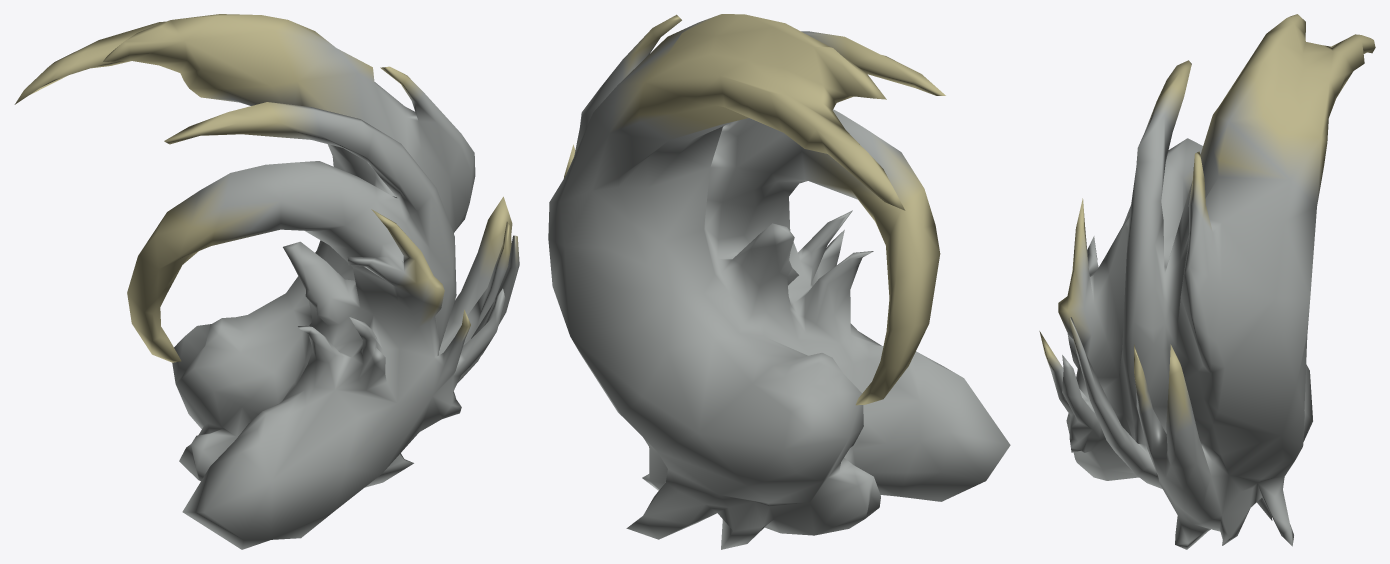
The picture shows the model from 3 angles, left to right: view 1: azimuth 30°, elevation 25°; view 2: azimuth 150°, elevation 25°; view 3: azimuth 270°, elevation 25°; orthographic projection. The views are drawn at different scales.
Parts seen in each view (by area): view 1: G:\FFXIV-MapTools\exports\l1f1\bg\ffxiv\lak_l1\fld\l1f1\bgpa; view 2: G:\FFXIV-MapTools\exports\l1f1\bg\ffxiv\lak_l1\fld\l1f1\bgpa; view 3: G:\FFXIV-MapTools\exports\l1f1\bg\ffxiv\lak_l1\fld\l1f1\bgpa.
Part boxes in pixels (bbox=[...]): G:\FFXIV-MapTools\exports\l1f1\bg\ffxiv\lak_l1\fld\l1f1\bgpa: bbox=[14, 14, 519, 549]; G:\FFXIV-MapTools\exports\l1f1\bg\ffxiv\lak_l1\fld\l1f1\bgpa: bbox=[548, 14, 1010, 549]; G:\FFXIV-MapTools\exports\l1f1\bg\ffxiv\lak_l1\fld\l1f1\bgpa: bbox=[1039, 14, 1375, 549].
Size of the model in its own units: 17.21 by 19.51 by 12.94.
